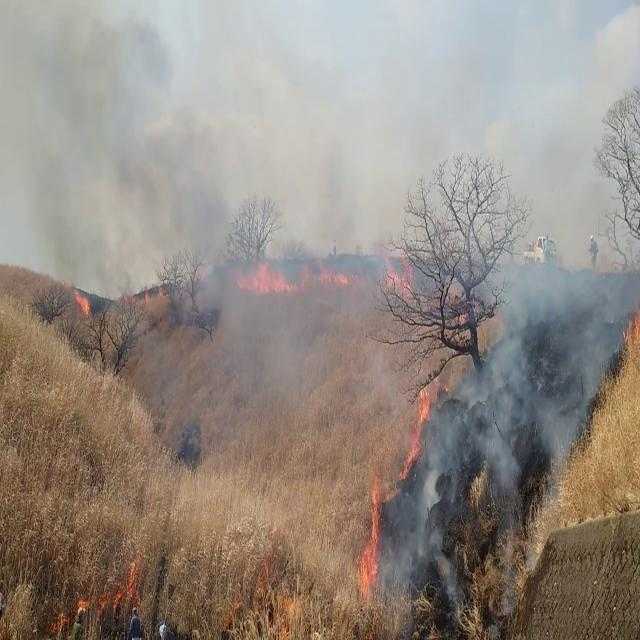Fire: (402, 371, 440, 478), (357, 470, 388, 598), (384, 238, 418, 304), (246, 254, 296, 296), (70, 280, 94, 321)
Smoke: (16, 0, 460, 460), (474, 118, 640, 496)
